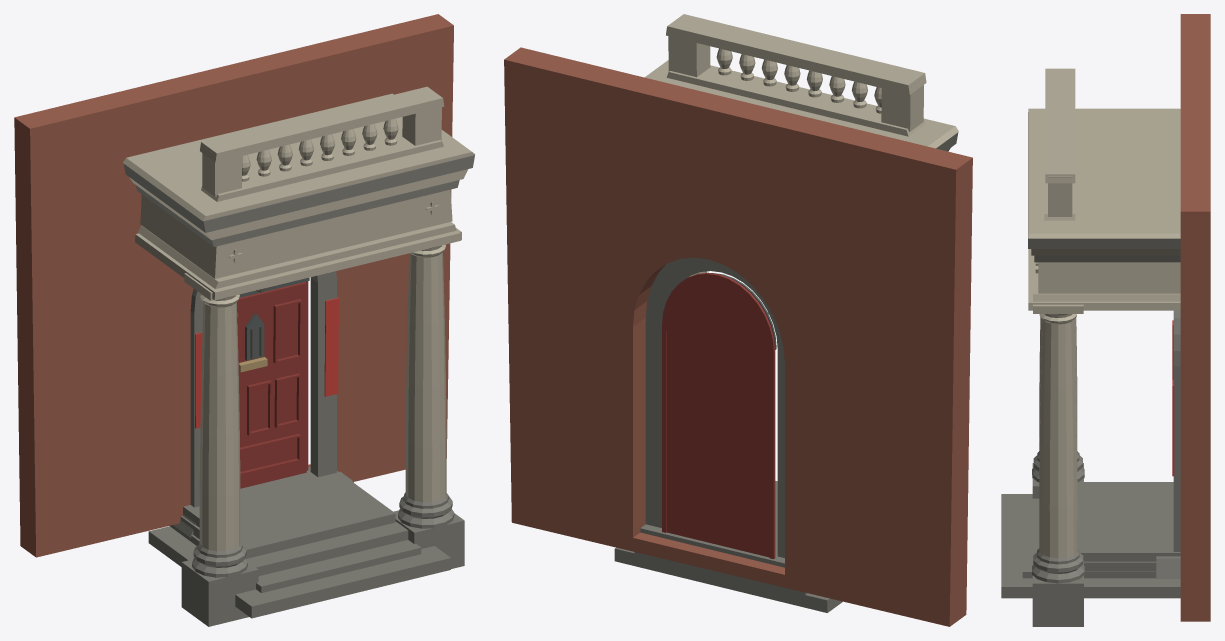
Rendered from lod-source.glb.
The picture shows the model from 3 angles, left to right: view 1: azimuth 30°, elevation 25°; view 2: azimuth 150°, elevation 25°; view 3: azimuth 270°, elevation 25°; orthographic projection. The views are drawn at different scales.
Parts seen in each view (by area): view 1: 新华路329弄32号乙花园住宅双柱门廊; view 2: 新华路329弄32号乙花园住宅双柱门廊; view 3: 新华路329弄32号乙花园住宅双柱门廊.
Part boxes in pixels (left/top/right/bottom): 新华路329弄32号乙花园住宅双柱门廊: left=14, top=14, right=475, bottom=626; 新华路329弄32号乙花园住宅双柱门廊: left=504, top=14, right=972, bottom=626; 新华路329弄32号乙花园住宅双柱门廊: left=1001, top=14, right=1210, bottom=626.
Bounding box in the file's own units: 4.99 × 5.25 × 2.24.
